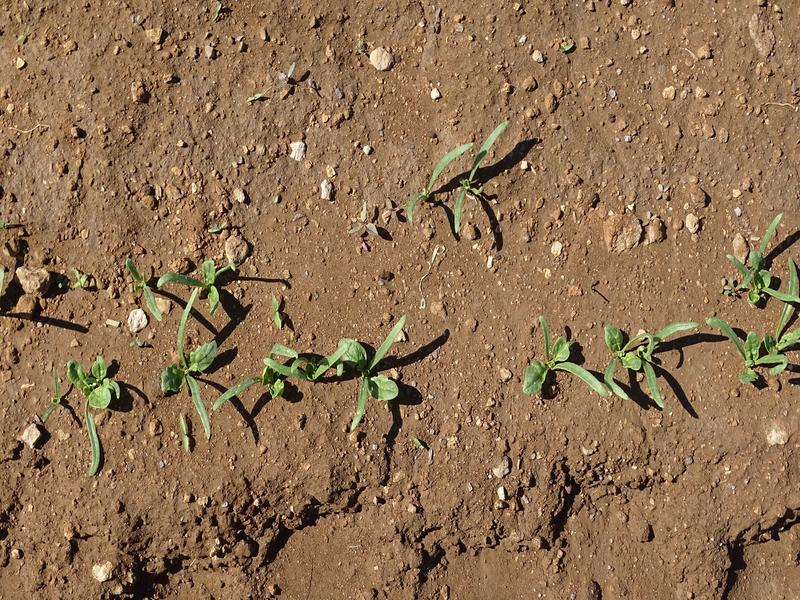Espinaca: (129, 254, 417, 441), (492, 306, 701, 409), (728, 214, 798, 389), (407, 122, 500, 236), (54, 351, 126, 473)
